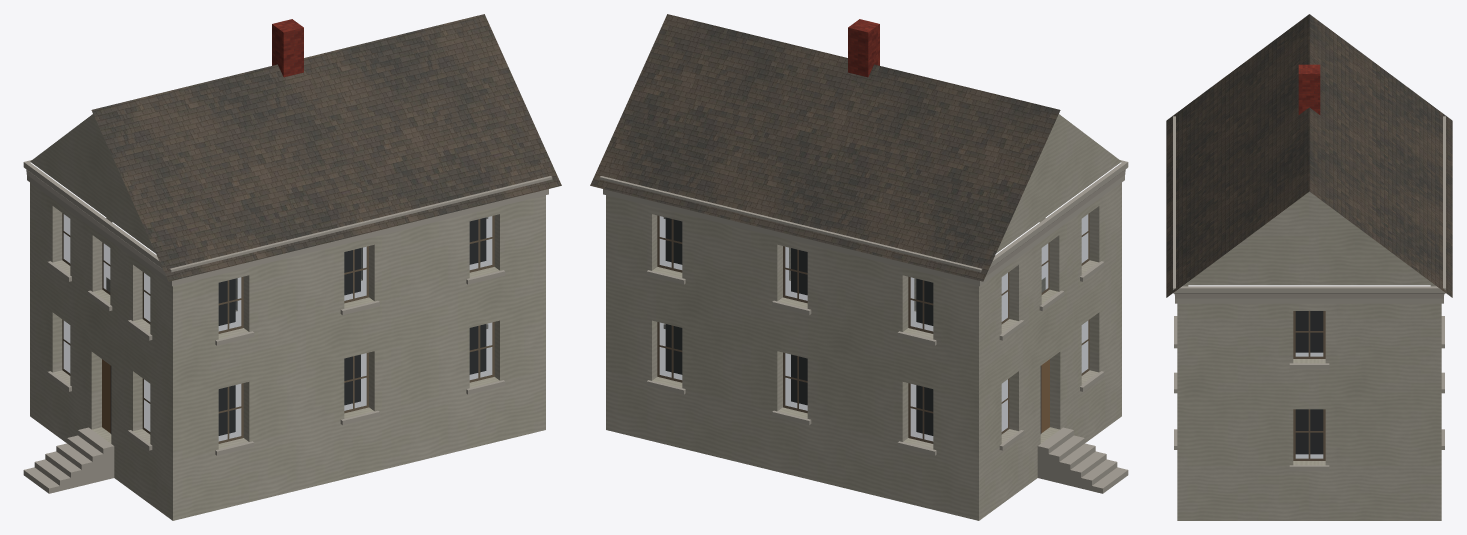
File: st_pauls_residence_1871__house_1868_1871.glb
The picture shows the model from 3 angles, left to right: view 1: azimuth 30°, elevation 25°; view 2: azimuth 150°, elevation 25°; view 3: azimuth 270°, elevation 25°; orthographic projection. The views are drawn at different scales.
Parts seen in each view (by area): view 1: st_pauls_residence_1871__house_1868_1871; view 2: st_pauls_residence_1871__house_1868_1871; view 3: st_pauls_residence_1871__house_1868_1871.
Boxes of the visible parts, x1,y1,x2,y2 form: st_pauls_residence_1871__house_1868_1871: [23, 14, 561, 520]; st_pauls_residence_1871__house_1868_1871: [590, 14, 1128, 520]; st_pauls_residence_1871__house_1868_1871: [1166, 14, 1452, 520].
Size of the model in its own units: 13.22 by 11.2 by 7.9.
9 materials, 3 textured.
